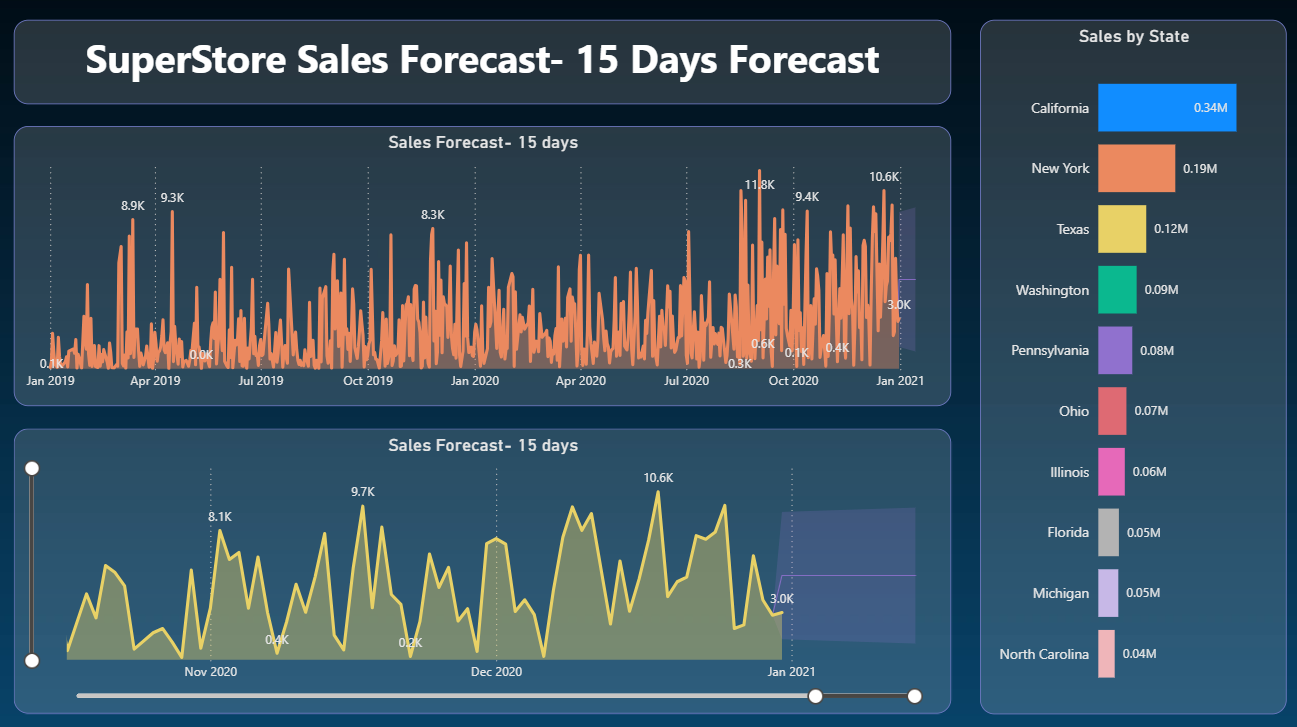

This screenshot's page, from the dashboard's own definition file:
{"tool":"powerbi","page":{"name":"Page 2","canvas":[1280,720],"ordinal":1},"visuals":[{"type":"lineChart","title":"Sales Forecast- 15 days","fields":{"Y":["Sum(SuperStore_Sales_Dataset.Sales)"],"Category":["SuperStore_Sales_Dataset.Order Date"]},"box":[32.5,130,905,270],"z":0},{"type":"lineChart","title":"Sales Forecast- 15 days","fields":{"Y":["Sum(SuperStore_Sales_Dataset.Sales)"],"Category":["SuperStore_Sales_Dataset.Order Date"]},"box":[32.5,422.5,905,275],"z":1000},{"type":"barChart","title":"Sales by State","fields":{"Category":["SuperStore_Sales_Dataset.State"],"Y":["Sum(SuperStore_Sales_Dataset.Sales)"]},"box":[965,27.5,296.2,670],"z":2000},{"type":"textbox","box":[32.5,27.5,905,81.2],"z":3000}]}

Visuals, with their boxes in screenshot pixels (x1, y1, x2, y2), scaled from the page's 1280x720 canvas onto the 1297x727 screenshot:
"Sales Forecast- 15 days" lineChart: {"x1": 33, "y1": 131, "x2": 950, "y2": 404}
"Sales Forecast- 15 days" lineChart: {"x1": 33, "y1": 427, "x2": 950, "y2": 704}
"Sales by State" barChart: {"x1": 978, "y1": 28, "x2": 1278, "y2": 704}
textbox: {"x1": 33, "y1": 28, "x2": 950, "y2": 110}
